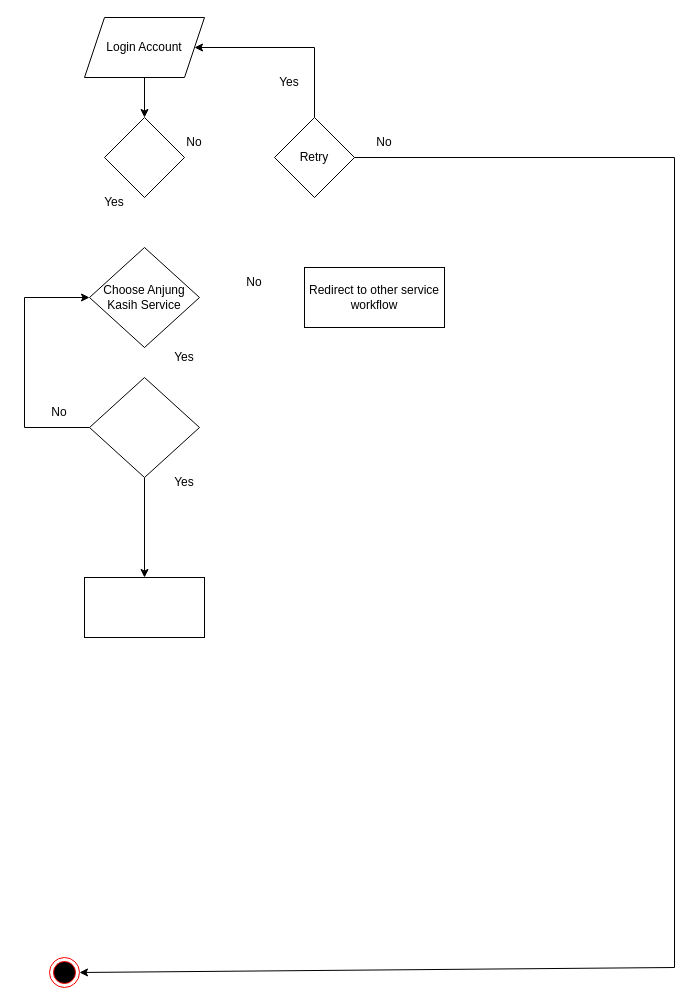
The diagram is 700 pixels wide and 1005 high, and some of its shapes have lost their labels. Each missing label, with the centre of its shape:
check account permission: [144,427]
Validation passed: [144,157]
